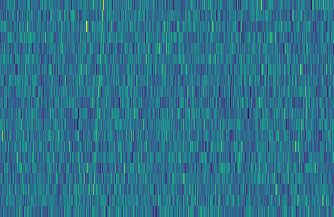signal: (85, 0, 106, 217)
